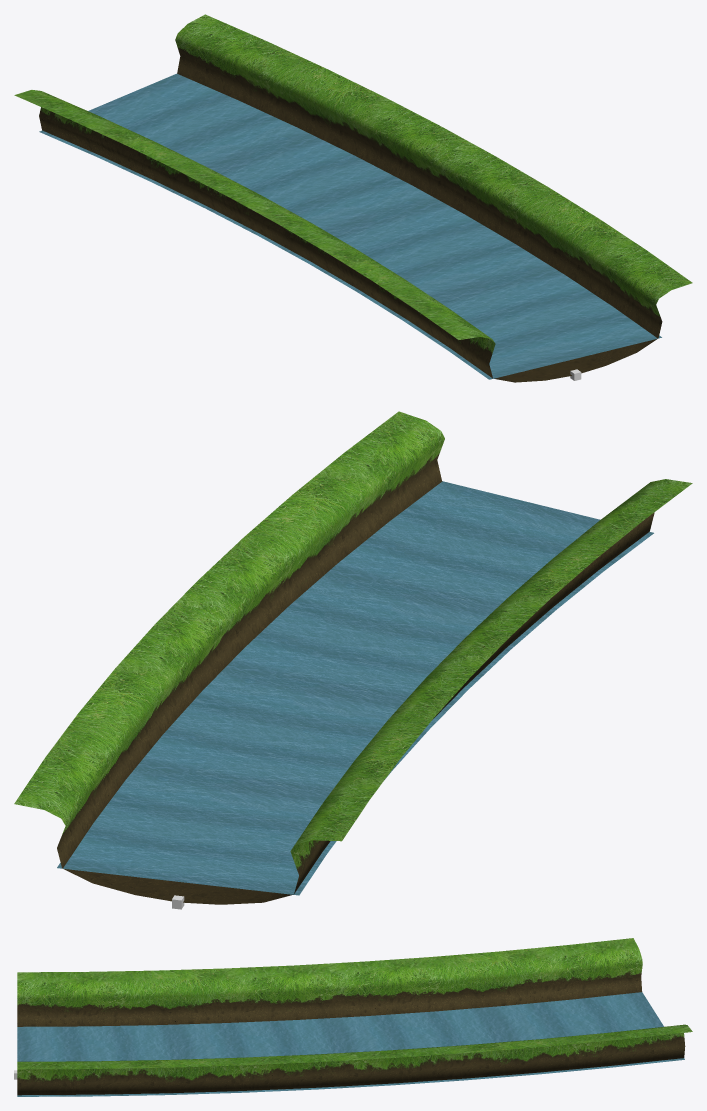
File: roadBend15.L.fbx
3 views of the same model, one above another, from view 1: azimuth 30°, elevation 25°; view 2: azimuth 150°, elevation 25°; view 3: azimuth 270°, elevation 25° (orthographic). The views are drawn at different scales.
Visible parts, largest first — view 1: MESH roadBend15.L; view 2: MESH roadBend15.L; view 3: MESH roadBend15.L.
Boxes of the visible parts, x1=… form: MESH roadBend15.L: x1=14, y1=14, x2=692, y2=382; MESH roadBend15.L: x1=14, y1=411, x2=692, y2=904; MESH roadBend15.L: x1=17, y1=938, x2=692, y2=1096.
Size of what is drawn, in the model's own units: 2287 by 463 by 4989.
